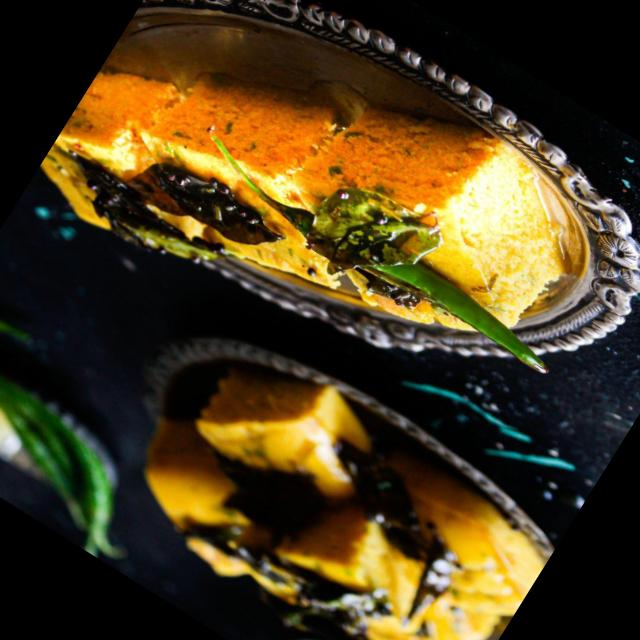dhokla: (38, 0, 615, 426), (102, 326, 553, 640)
